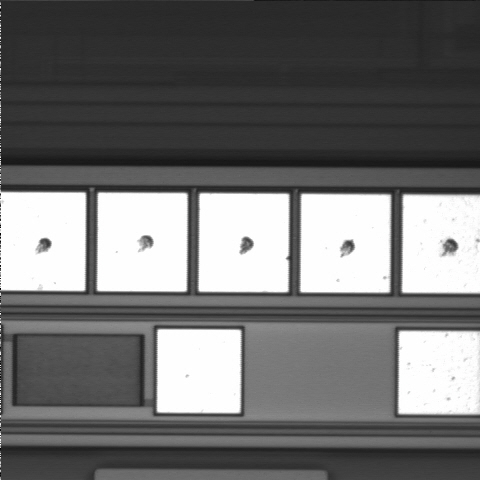pad: (97, 193, 187, 292), (199, 193, 289, 292), (301, 194, 390, 293), (157, 329, 241, 413)
